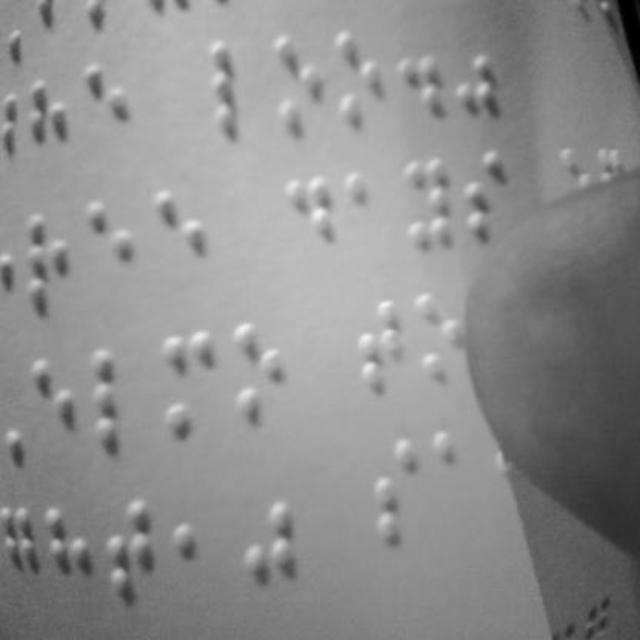braiile: (152, 178, 218, 306), (235, 501, 301, 622), (231, 314, 295, 434), (159, 326, 225, 438), (89, 340, 150, 458), (367, 434, 428, 550), (105, 494, 161, 616), (85, 189, 143, 305), (282, 170, 342, 282), (403, 152, 461, 266), (415, 288, 475, 397), (174, 486, 230, 602), (26, 354, 84, 464), (44, 500, 100, 612), (430, 420, 484, 536), (208, 36, 268, 140), (355, 294, 413, 400), (82, 51, 134, 166), (334, 27, 390, 131), (462, 146, 514, 258), (271, 36, 329, 136), (344, 164, 396, 274), (22, 210, 74, 316), (0, 502, 48, 610)
